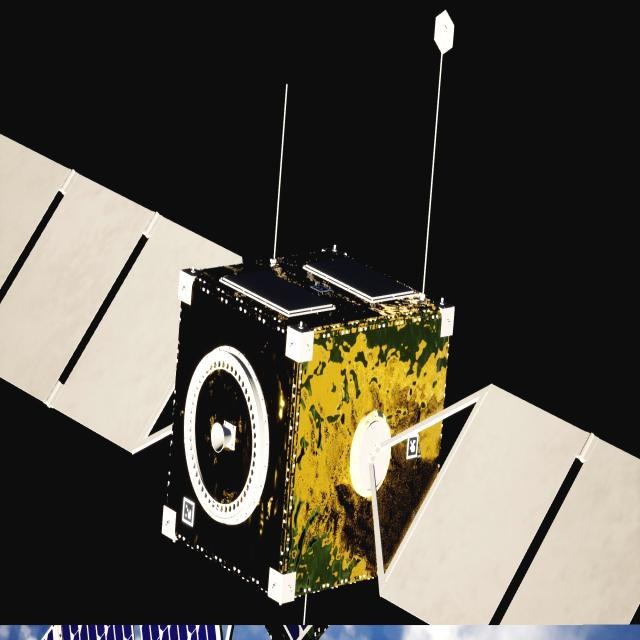medium_debris: (0, 135, 640, 640)
